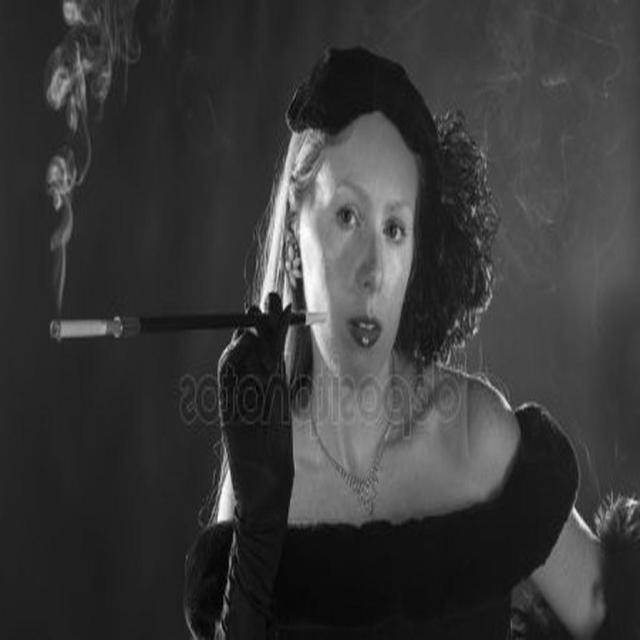smoking: (49, 293, 328, 346)
